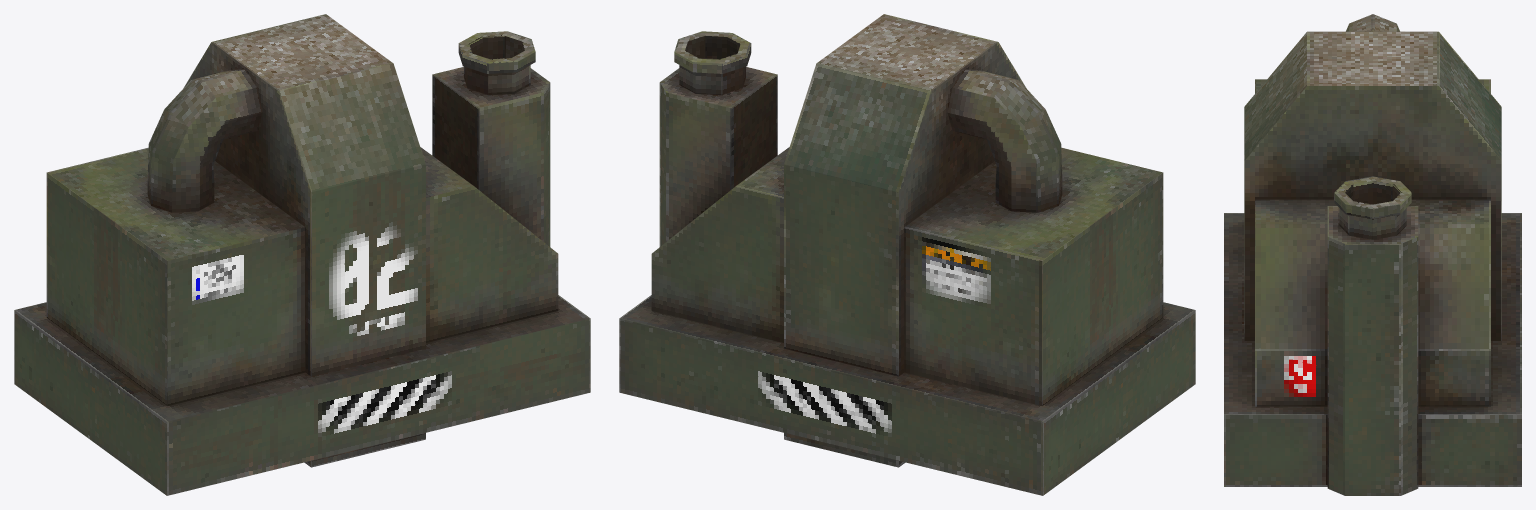
File: machinery_3.glb
3 renders of one model, left to right at view 1: azimuth 30°, elevation 25°; view 2: azimuth 150°, elevation 25°; view 3: azimuth 270°, elevation 25°, orthographic. The views are drawn at different scales.
Parts seen in each view (by area): view 1: Machinery_3; view 2: Machinery_3; view 3: Machinery_3.
Boxes of the visible parts, x1,y1,x2,y2 form: Machinery_3: [14, 14, 590, 495]; Machinery_3: [619, 14, 1195, 495]; Machinery_3: [1224, 14, 1521, 495].
Bounding box in the file's own units: 4.25 × 3.22 × 2.53.
1 material, 1 textured.
